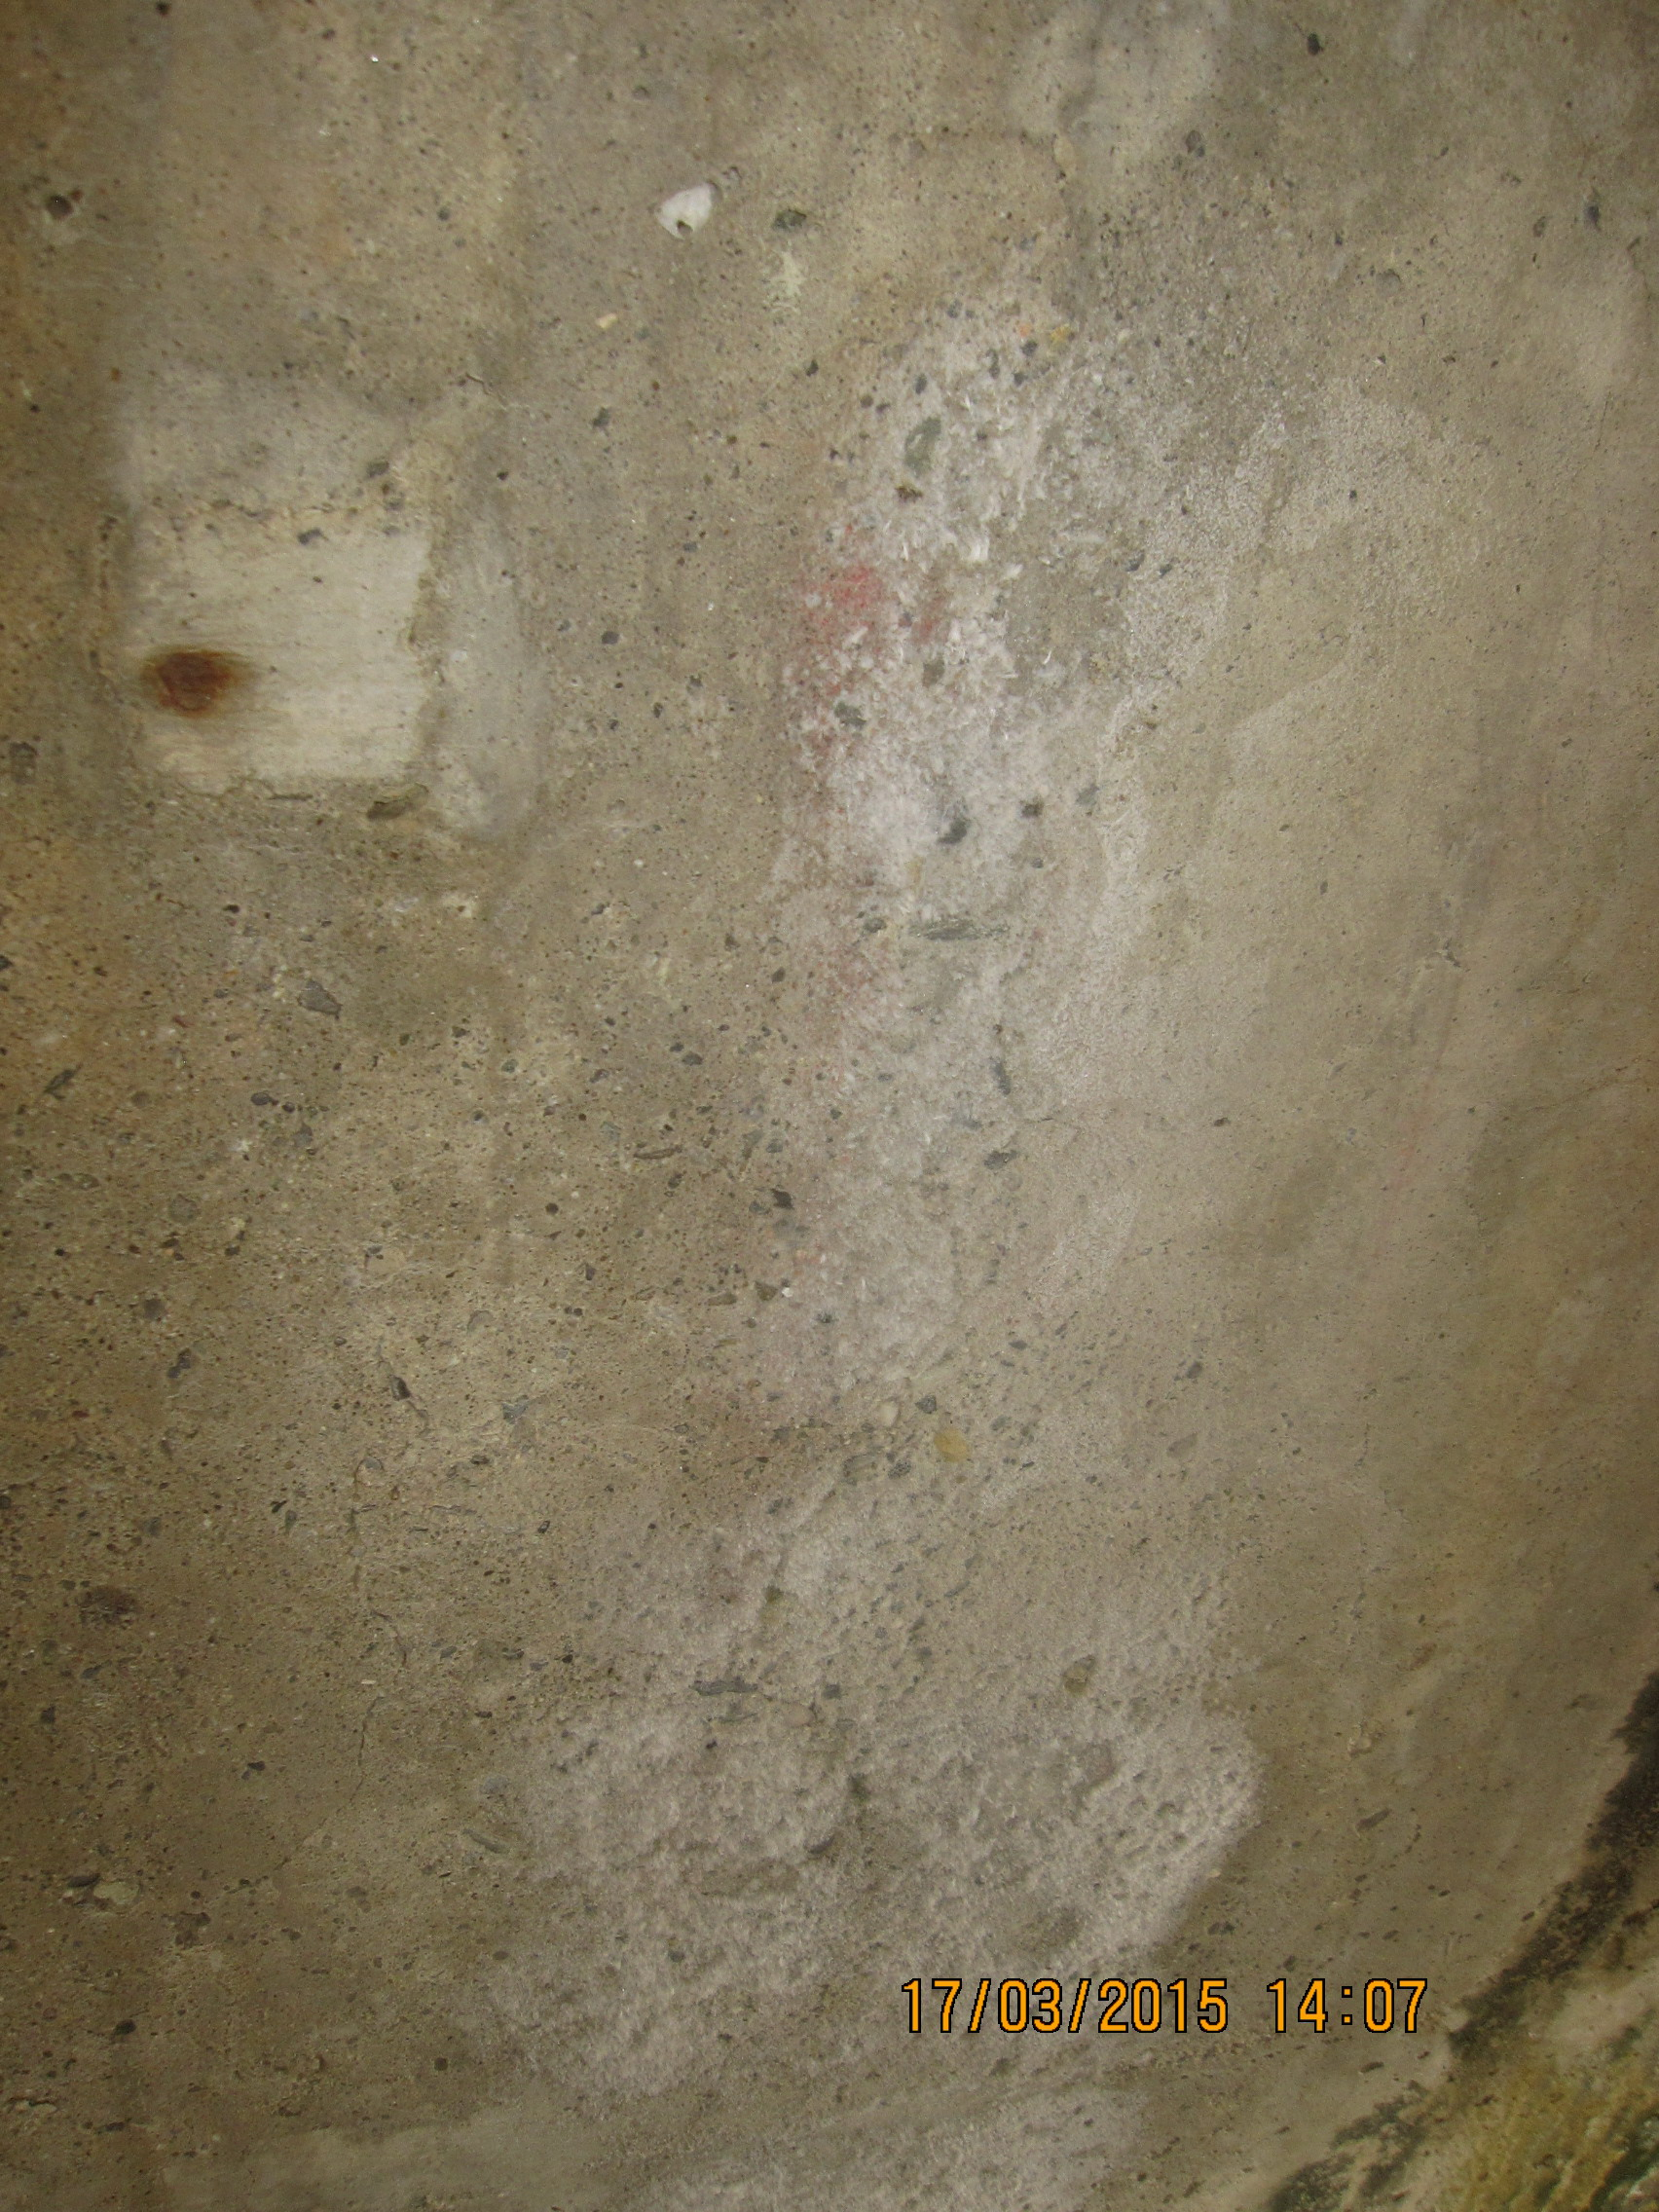defect: (247, 1446, 420, 1885)
